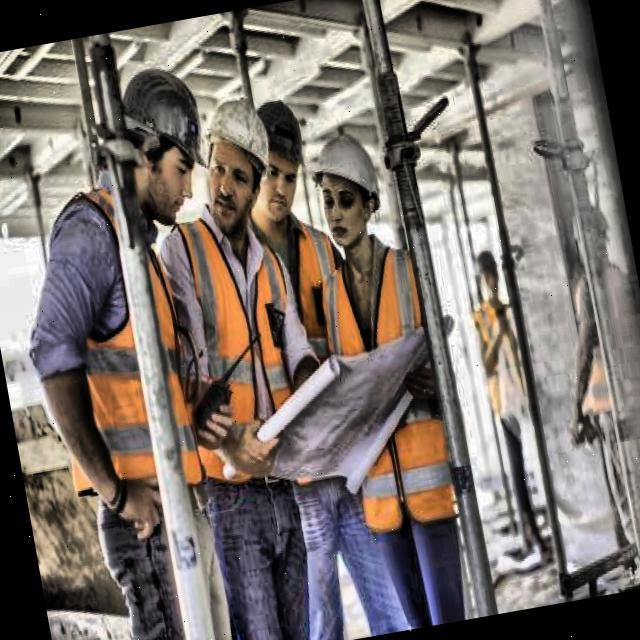helmet: (98, 58, 216, 242), (191, 96, 279, 233), (234, 97, 316, 223), (304, 127, 386, 252), (566, 196, 614, 272), (468, 243, 504, 304)
